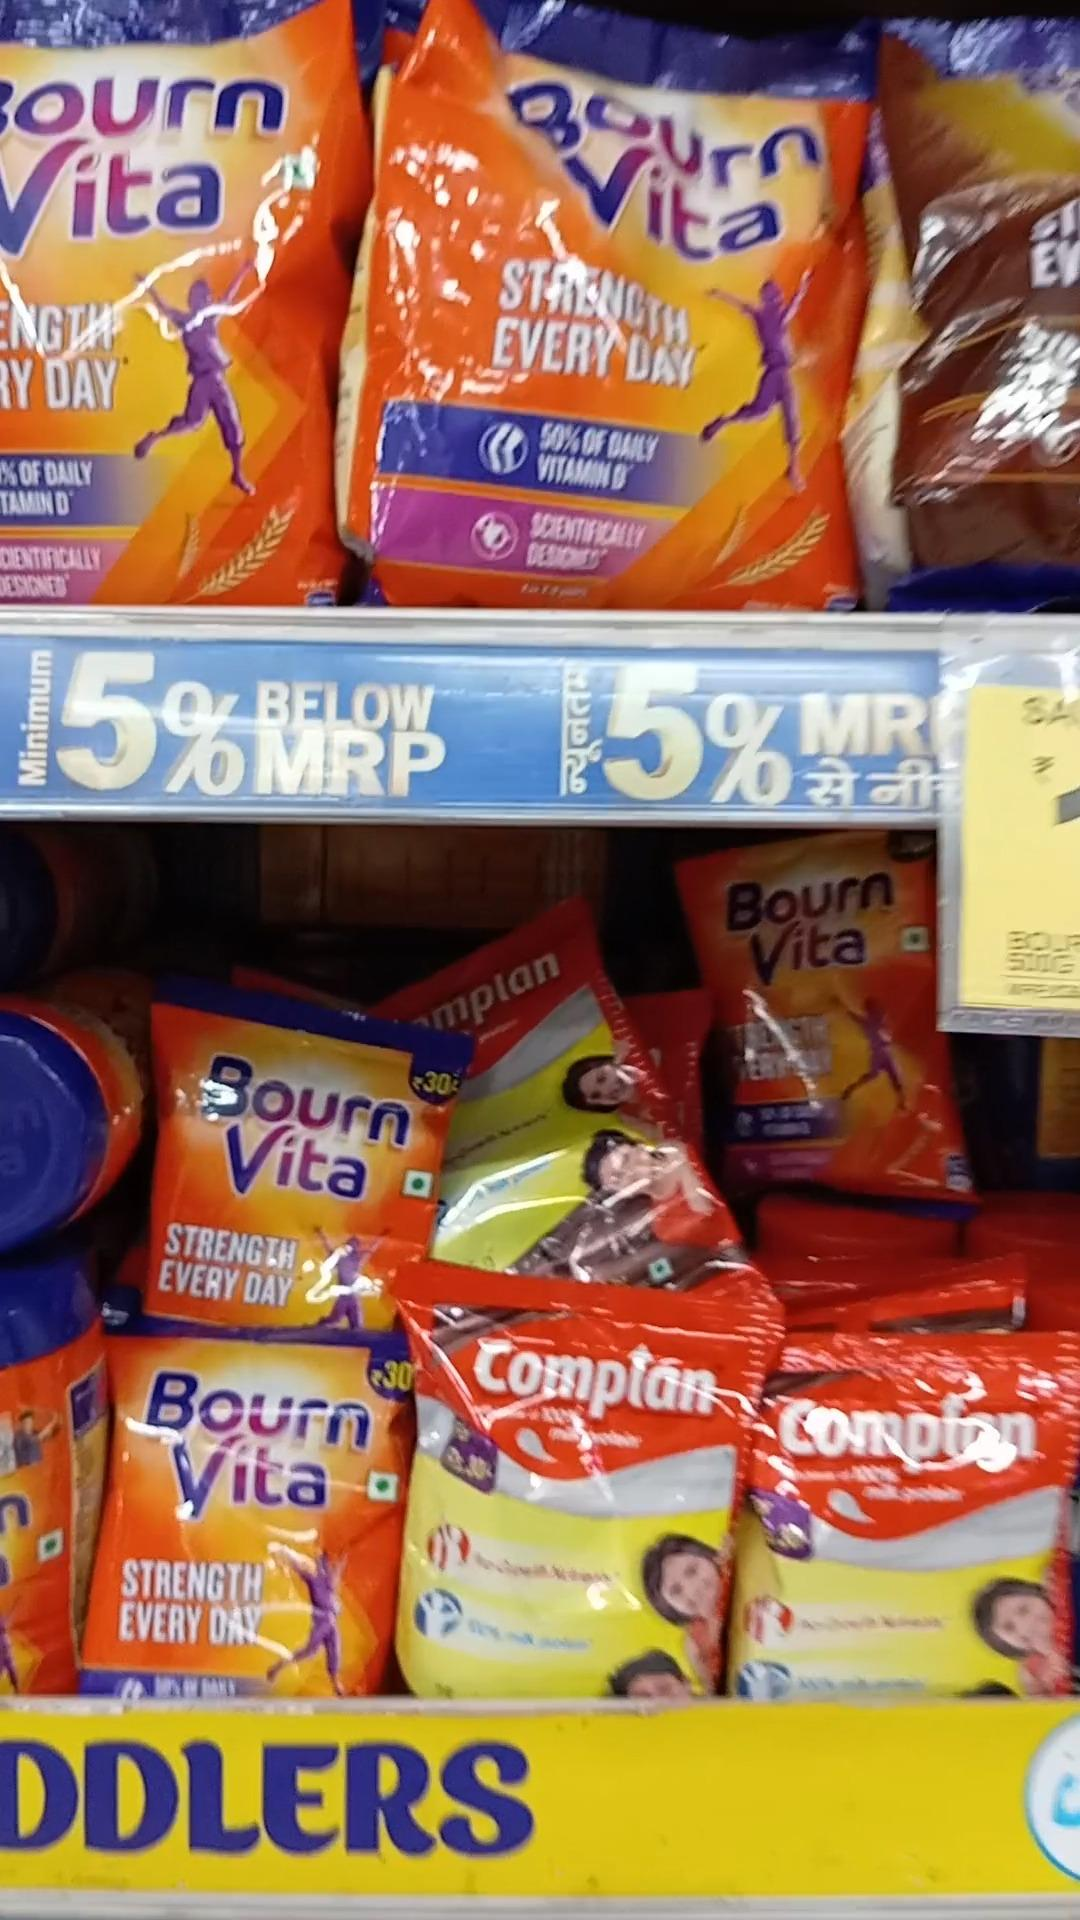BOURN_VITA_500_G_POUCH: (353, 0, 849, 612)
BOURN_VITA_75_G_POUCH: (108, 1335, 373, 1698), (150, 990, 444, 1273)
